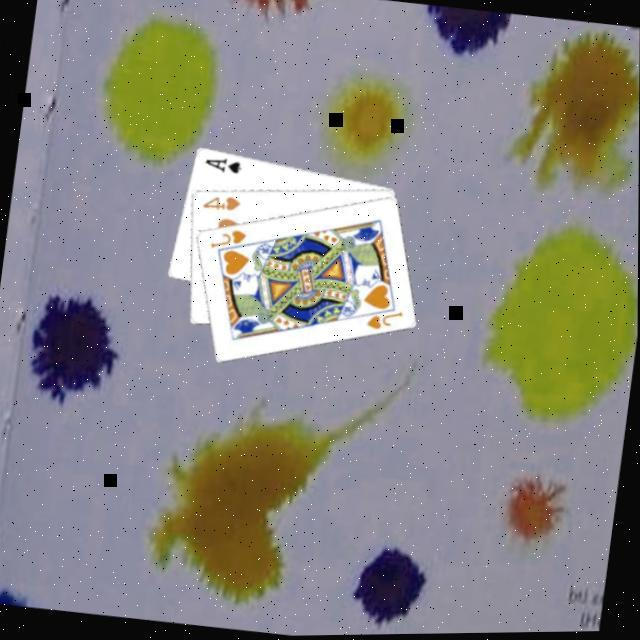4H: (201, 189, 245, 215)
AS: (202, 152, 246, 178)
JH: (209, 222, 252, 254), (365, 304, 408, 336)
